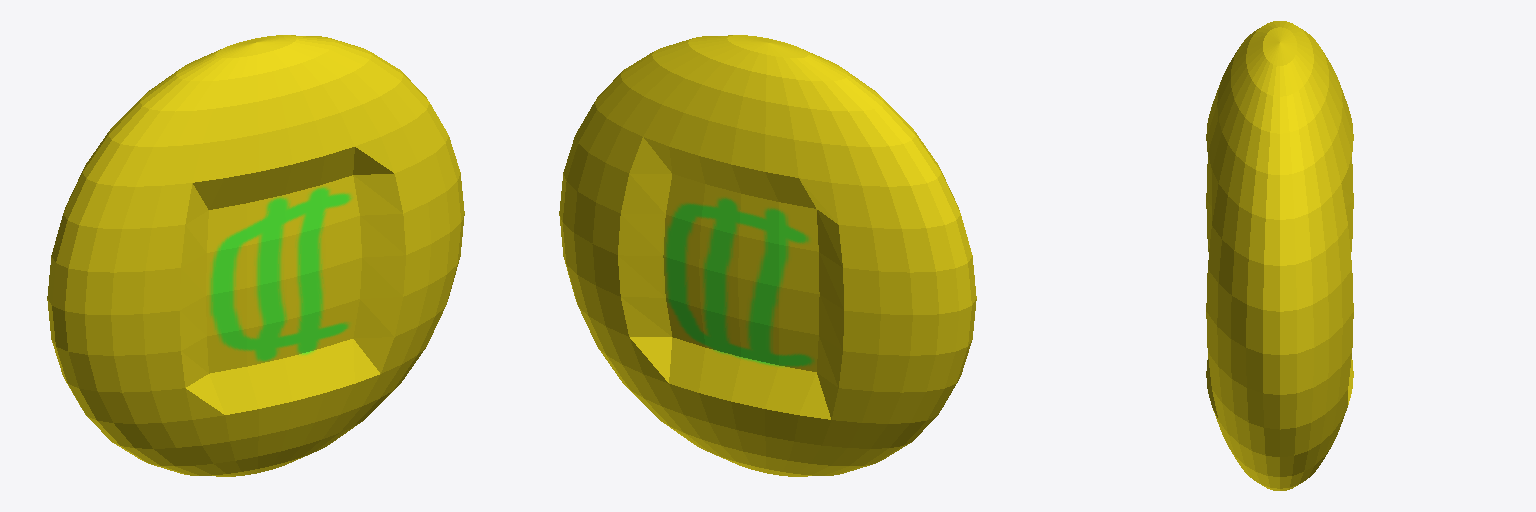
3 renders of one model, left to right at view 1: azimuth 30°, elevation 25°; view 2: azimuth 150°, elevation 25°; view 3: azimuth 270°, elevation 25°, orthographic.
Visible parts, largest first — view 1: Sphere; view 2: Sphere; view 3: Sphere.
Part boxes in pixels (x1,y1,x2,y2): Sphere: (47, 35, 464, 476); Sphere: (559, 35, 976, 476); Sphere: (1206, 21, 1353, 490).
Size of the model in its own units: 2 by 2 by 0.6265.
1 materials, 1 textured.